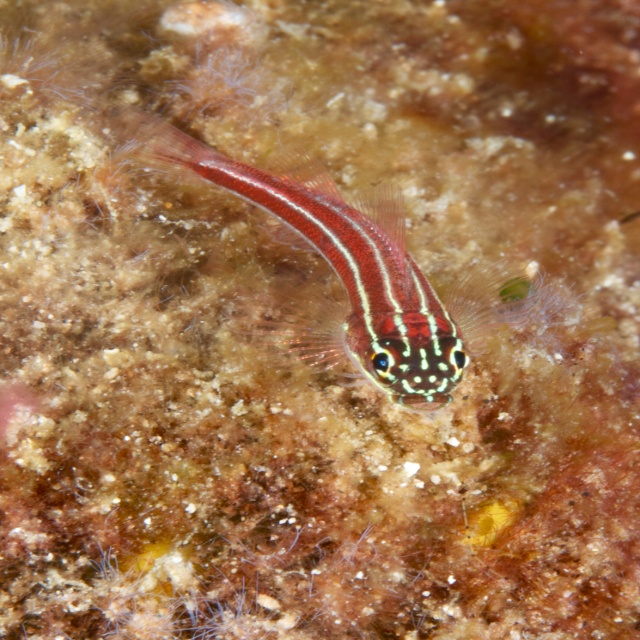Fish: (104, 99, 539, 413)
